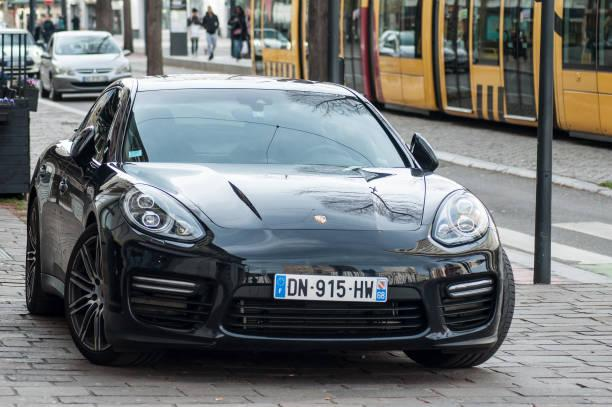porsche: (310, 210, 335, 226)
